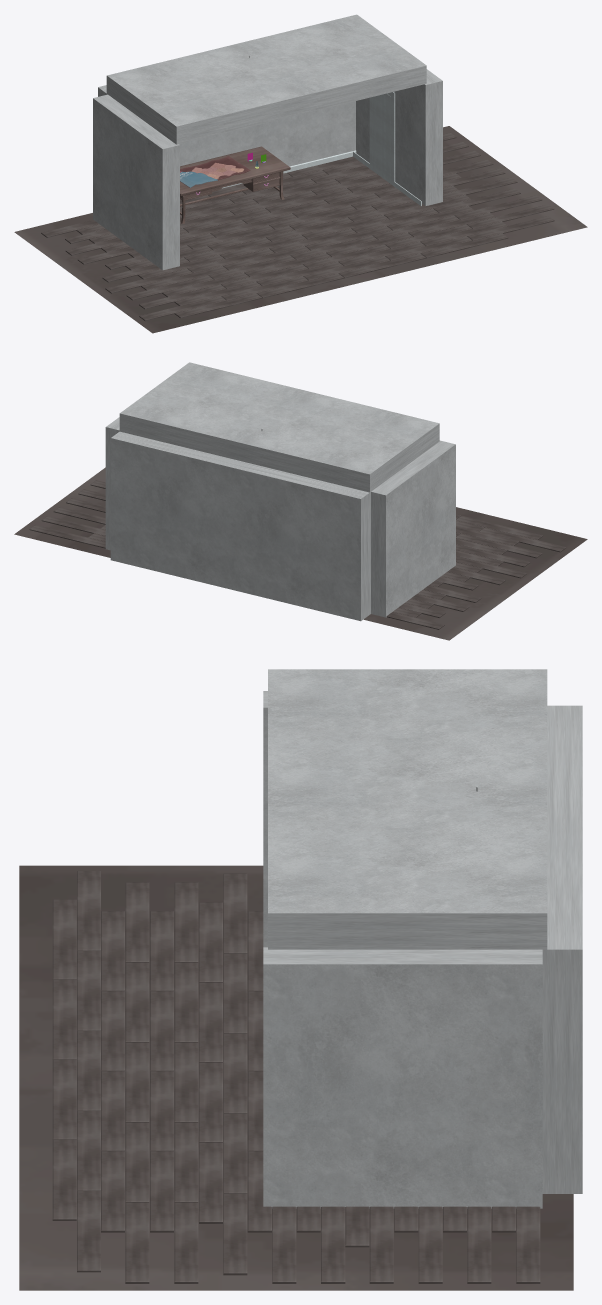
Rendered from sala_mapa_01.FBX.
3 renders of one model, top to bottom at view 1: azimuth 30°, elevation 25°; view 2: azimuth 150°, elevation 25°; view 3: azimuth 270°, elevation 25°, orthographic. The views are drawn at different scales.
Parts seen in each view (by area): view 1: sala, suelo, plano_suelo, mesa, puerta_02, mapa, rodapie; view 2: sala, suelo, plano_suelo; view 3: sala, suelo, plano_suelo.
Part boxes in pixels (x1,y1,x2,y2): sala: (93,14,442,270); suelo: (41,133,554,320); plano_suelo: (14,126,587,333); mesa: (180,146,290,223); puerta_02: (352,92,421,205); mapa: (180,156,250,187); rodapie: (222,150,356,188); sala: (105,362,455,621); suelo: (29,480,566,629); plano_suelo: (14,467,587,640); sala: (263,669,582,1208); suelo: (52,871,540,1283); plano_suelo: (19,865,573,1290).
Size of the model in its own units: 10.44 by 3.27 by 5.85.
